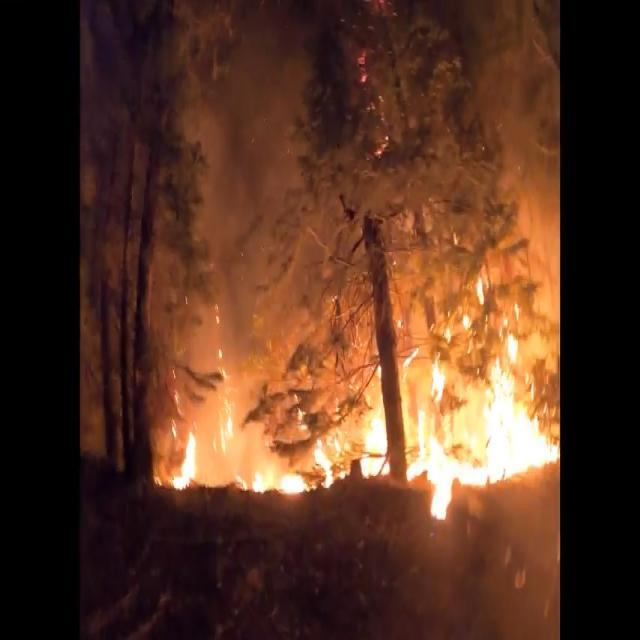Fire: (165, 328, 560, 520)
